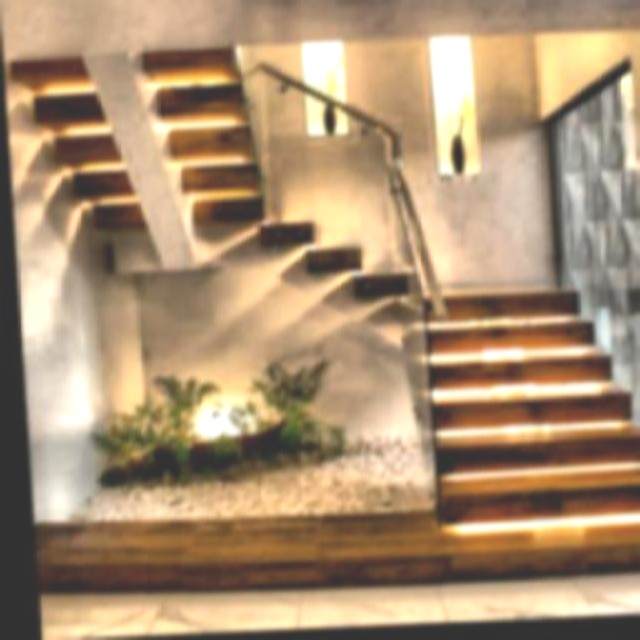stair: (392, 200, 638, 529)
